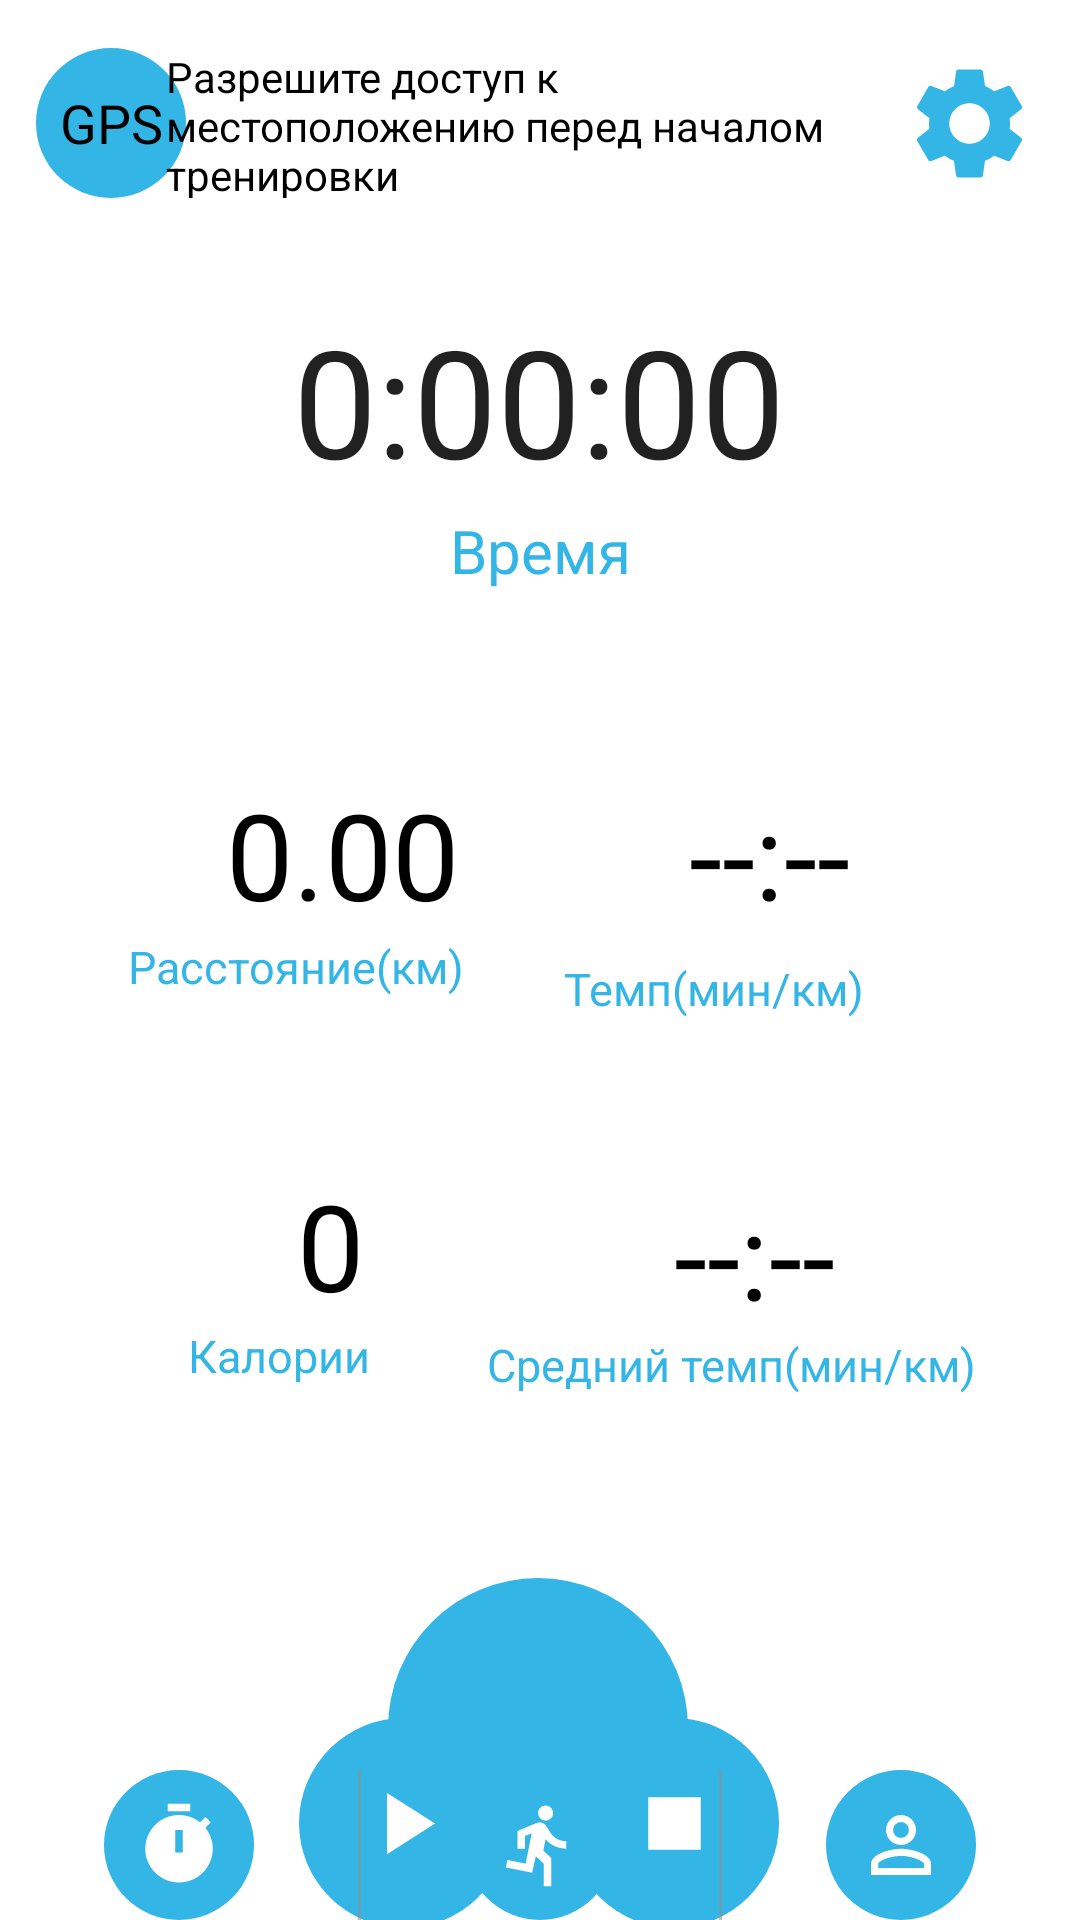

Where to tap for icons on this 1080px x 1920px app screen, as (x=x, y=y):
directions run: (x=536, y=1846)
person: (x=901, y=1845)
resume: (x=404, y=1819)
settings: (x=969, y=123)
stop: (x=674, y=1819)
timer: (x=179, y=1845)
